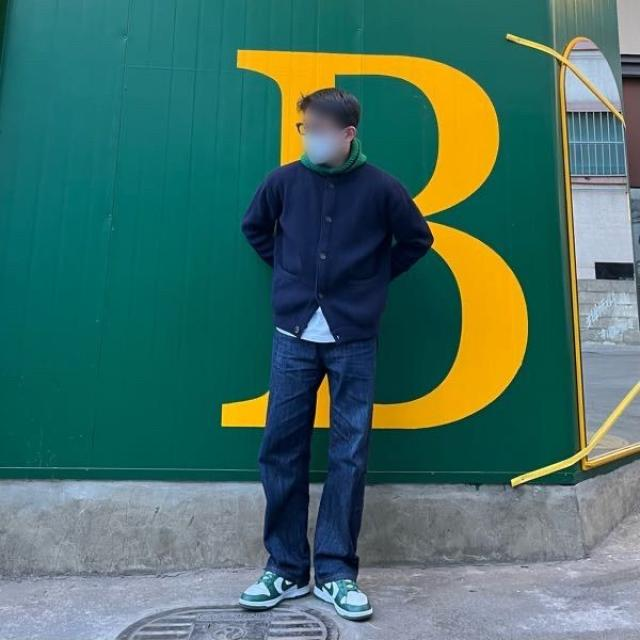cardigan: (240, 156, 434, 343)
denimpants: (255, 318, 377, 584)
